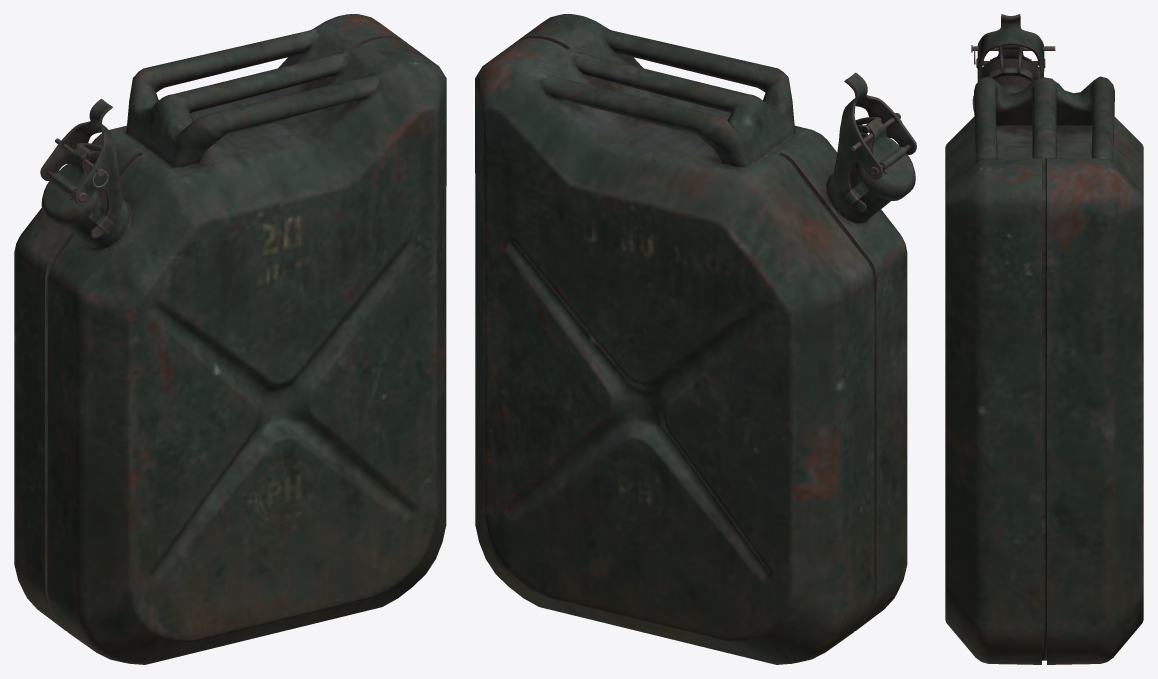
File: metal_jerrycan_green.glb
3 renders of one model, left to right at view 1: azimuth 30°, elevation 25°; view 2: azimuth 150°, elevation 25°; view 3: azimuth 270°, elevation 25°, orthographic. The views are drawn at different scales.
Parts seen in each view (by area): view 1: metal_jerrycan_green_body, metal_jerrycan_green_latch, metal_jerrycan_green_cap; view 2: metal_jerrycan_green_body, metal_jerrycan_green_latch, metal_jerrycan_green_cap; view 3: metal_jerrycan_green_body, metal_jerrycan_green_latch, metal_jerrycan_green_cap, metal_jerrycan_green_fastener.
Boxes of the visible parts, x1,y1,x2,y2 form: metal_jerrycan_green_body: (14,14,446,664); metal_jerrycan_green_latch: (40,98,122,238); metal_jerrycan_green_cap: (41,144,101,227); metal_jerrycan_green_body: (475,14,907,664); metal_jerrycan_green_latch: (834,72,916,212); metal_jerrycan_green_cap: (855,118,915,200); metal_jerrycan_green_body: (945,75,1143,664); metal_jerrycan_green_latch: (976,14,1045,81); metal_jerrycan_green_cap: (980,45,1040,79); metal_jerrycan_green_fastener: (989,46,1032,81).
Size of the model in its own units: 0.3604 by 0.4999 by 0.1709.
Materials: 1 (1 with a texture image).
